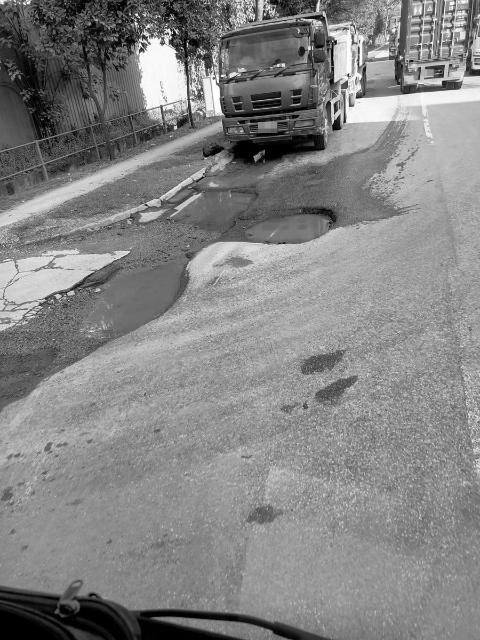Pothole: (54, 252, 194, 372), (222, 202, 346, 246), (164, 183, 262, 233)
